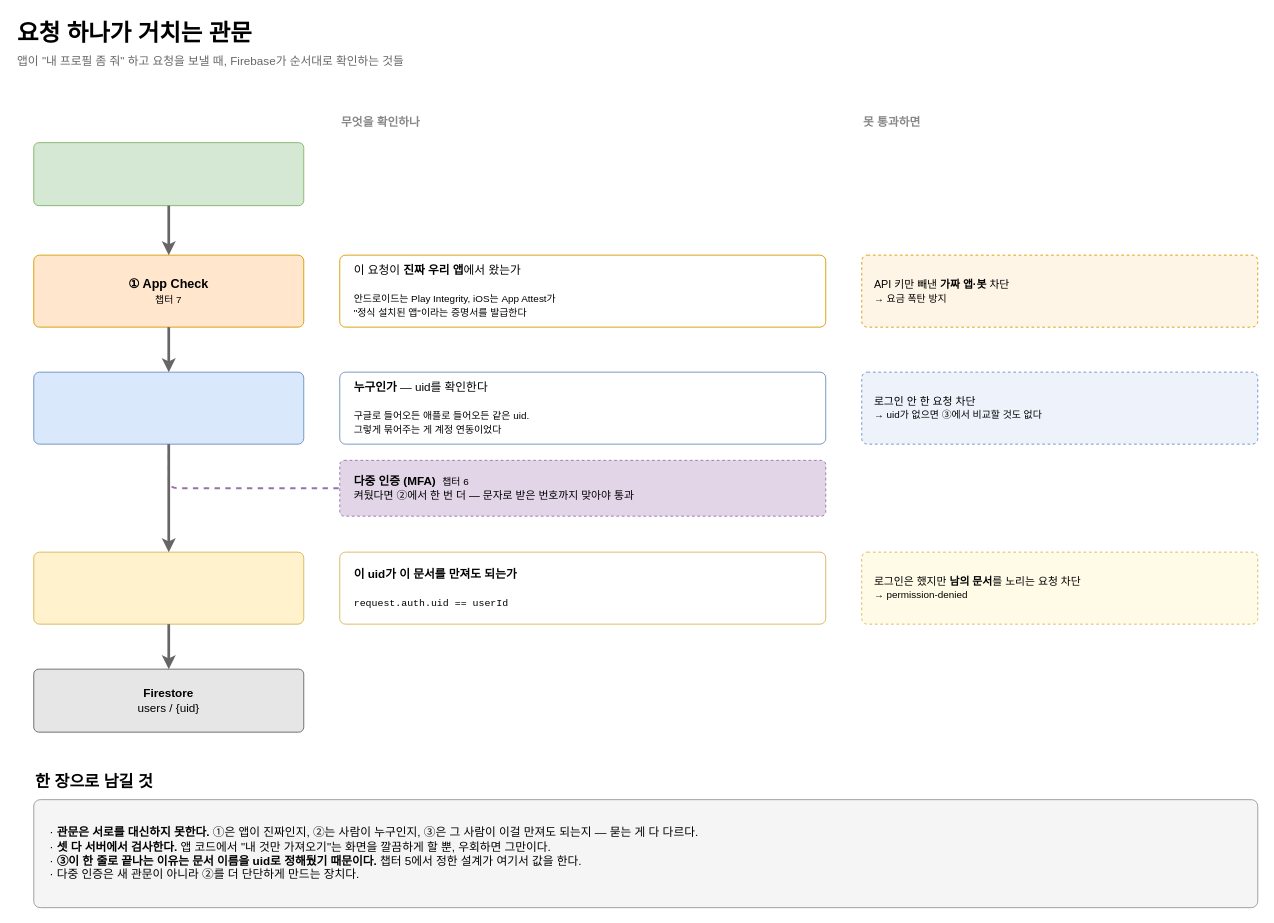
The diagram is 1274 pixels wide and 923 high, and some of its shapes have lost their labels. The box of each missing label's shape, as (x1, y1, x2, y2) in pixels:
② Firebase Auth 챕터 2~4: (33, 371, 304, 444)
③ Security Rules 챕터 5: (33, 551, 304, 624)
우리 앱 "users/내uid 문서 줘": (33, 142, 304, 206)
